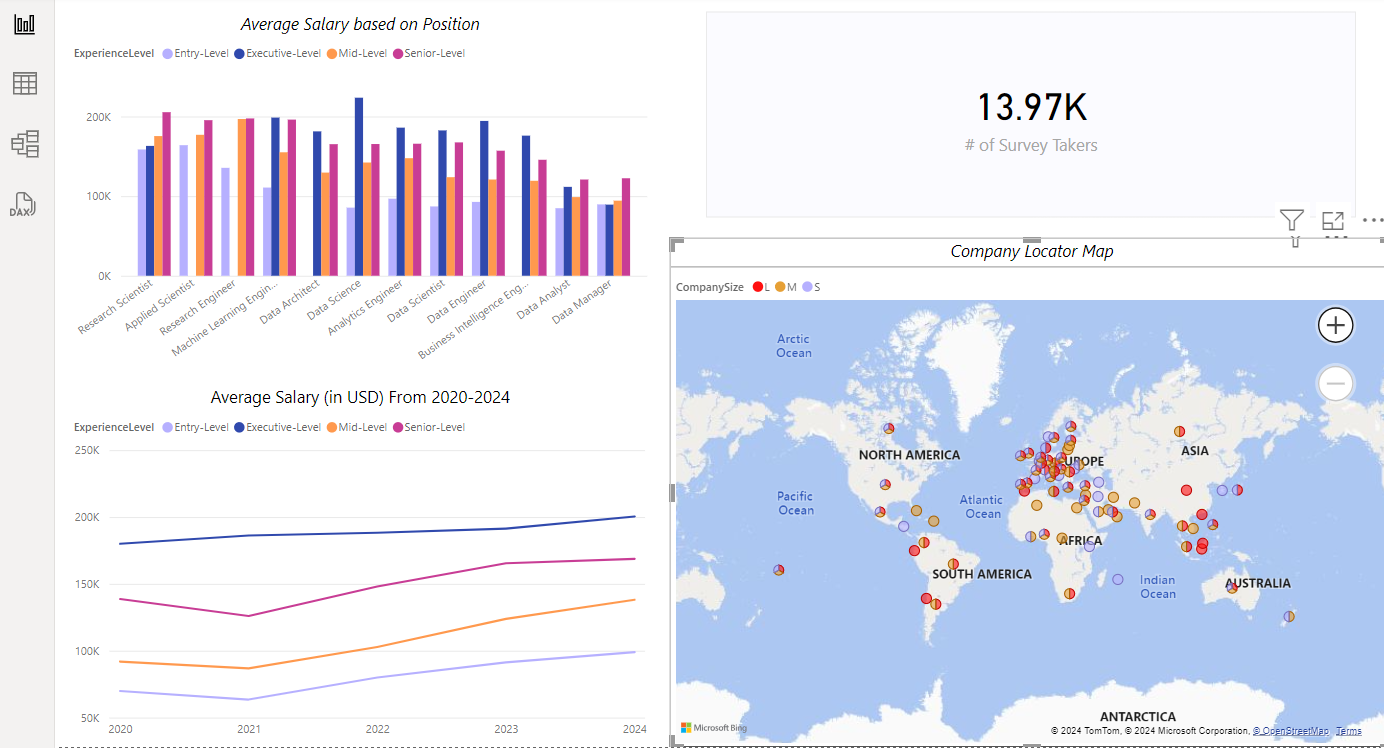

This screenshot's page, from the dashboard's own definition file:
{"tool":"powerbi","page":{"name":"Page 1","canvas":[1280,720],"ordinal":0},"visuals":[{"type":"map","title":"Company Locator Map","fields":{"Category":["DataScienceSalaries.CompanyLocation"],"Series":["DataScienceSalaries.CompanySize"]},"box":[588.7,233.1,691.8,487.1],"z":0},{"type":"lineChart","title":"Average Salary (in USD) From 2020-2024","fields":{"Category":["DataScienceSalaries.WorkYear"],"Y":["Avg(DataScienceSalaries.SalaryInUSD)"],"Series":["DataScienceSalaries.ExperienceLevel"]},"box":[12.9,373.4,558.6,346.1],"z":1000},{"type":"card","fields":{"Values":["CountNonNull(DataScienceSalaries.ExperienceLevel)"]},"box":[623.2,15.8,621.8,196.7],"z":2000},{"type":"clusteredColumnChart","title":"Average Salary based on Position","fields":{"Category":["DataScienceSalaries.JobTitle"],"Y":["Avg(DataScienceSalaries.SalaryInUSD)"],"Series":["DataScienceSalaries.ExperienceLevel"]},"box":[13.4,16.4,558.8,343.7],"z":3000}]}

Visuals, with their boxes on the page's 1280x720 design canvas (x1, y1, x2, y2). These are canvas units, not pixel positions in the 1384x748 screenshot, which may show the page scaled, cropped or inside an application window:
"Company Locator Map" map: left=589, top=233, right=1280, bottom=720
"Average Salary (in USD) From 2020-2024" lineChart: left=13, top=373, right=572, bottom=720
card - CountNonNull(DataScienceSalaries.ExperienceLevel): left=623, top=16, right=1245, bottom=212
"Average Salary based on Position" clusteredColumnChart: left=13, top=16, right=572, bottom=360
